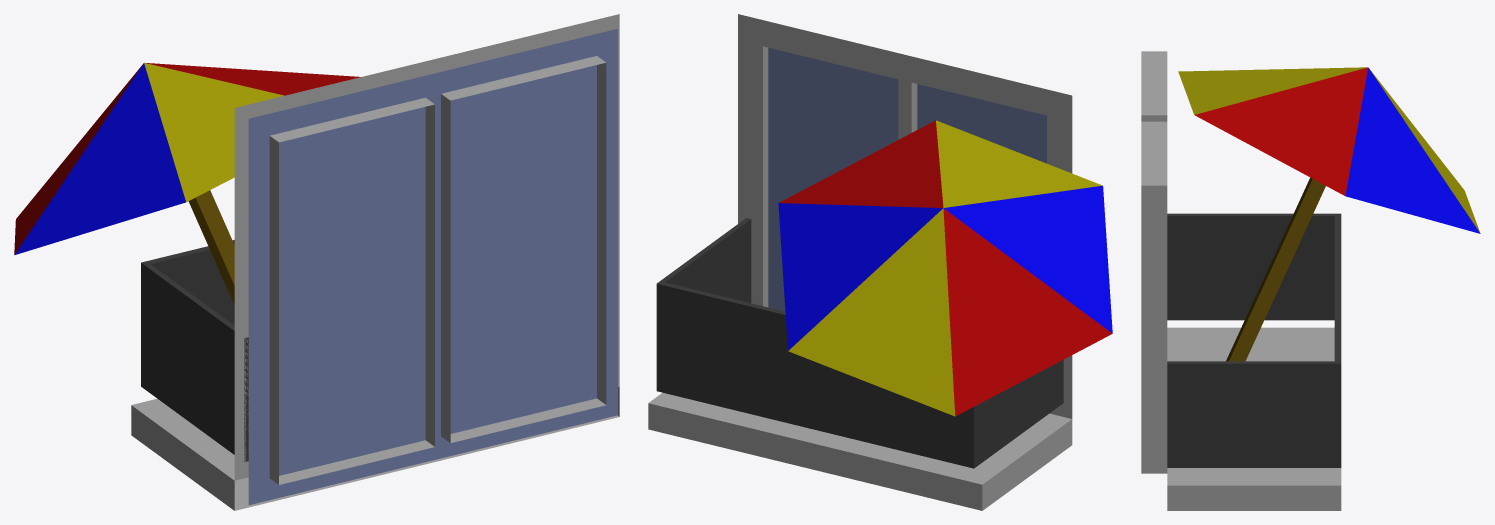
Rendered from BalconyUmberella.fbx.
3 renders of one model, left to right at view 1: azimuth 30°, elevation 25°; view 2: azimuth 150°, elevation 25°; view 3: azimuth 270°, elevation 25°, orthographic. The views are drawn at different scales.
Visible parts, largest first — view 1: BalconyUmberella; view 2: BalconyUmberella; view 3: BalconyUmberella.
Boxes of the visible parts, x1=… form: BalconyUmberella: x1=14, y1=14, x2=619, y2=510; BalconyUmberella: x1=648, y1=14, x2=1112, y2=510; BalconyUmberella: x1=1141, y1=51, x2=1480, y2=510.
Size of the model in its own units: 1.35 by 1 by 0.9076.
